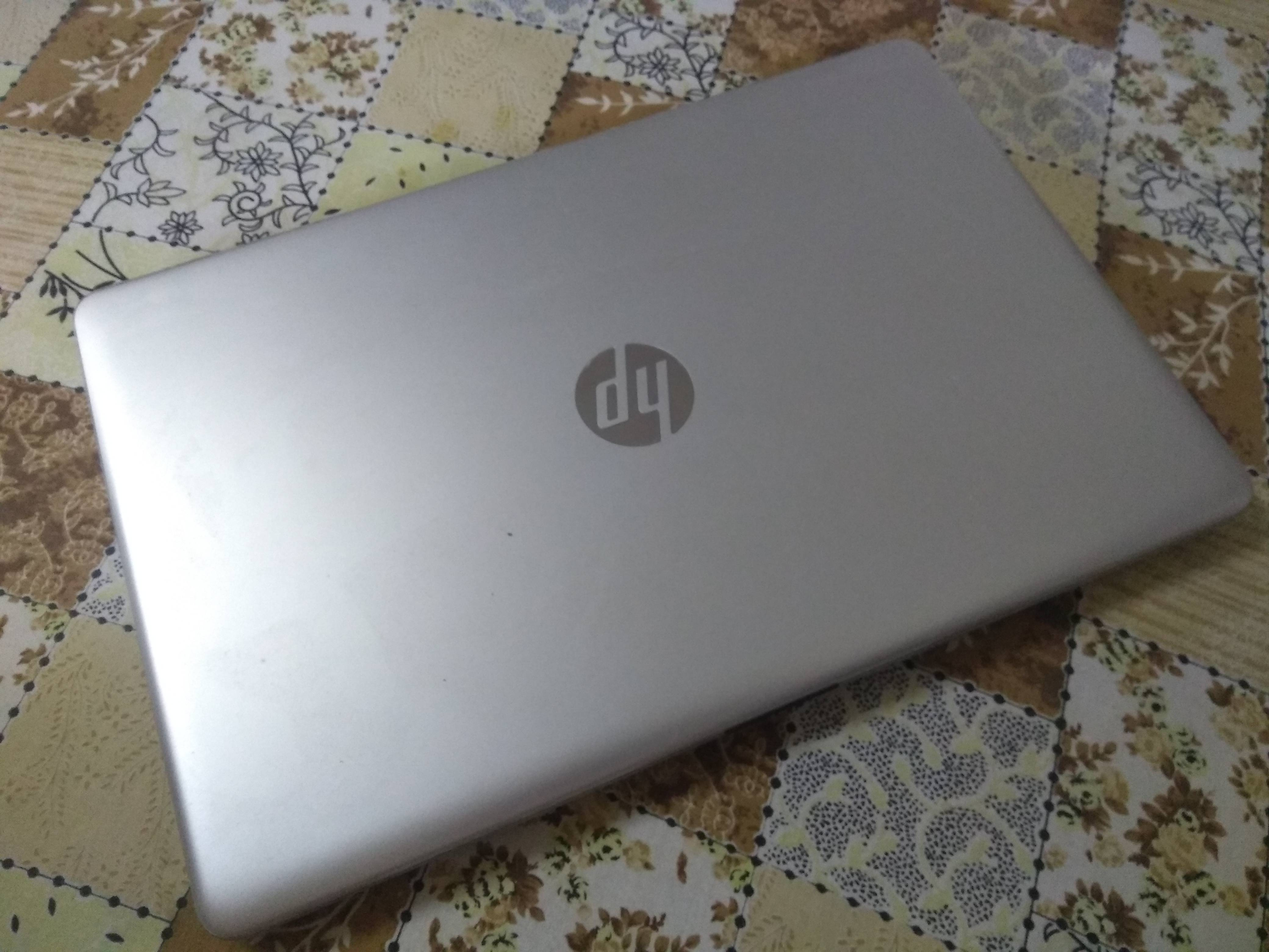Electronics: (56, 22, 1255, 952)
